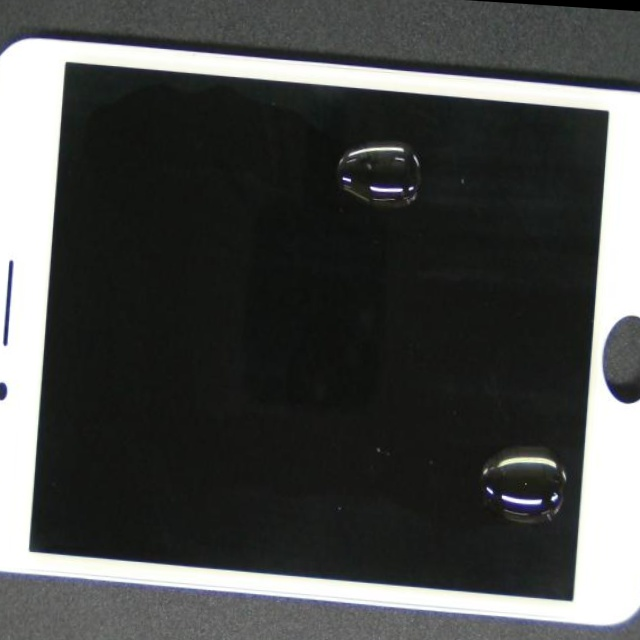oil: (159, 195, 640, 640), (144, 43, 548, 251)
